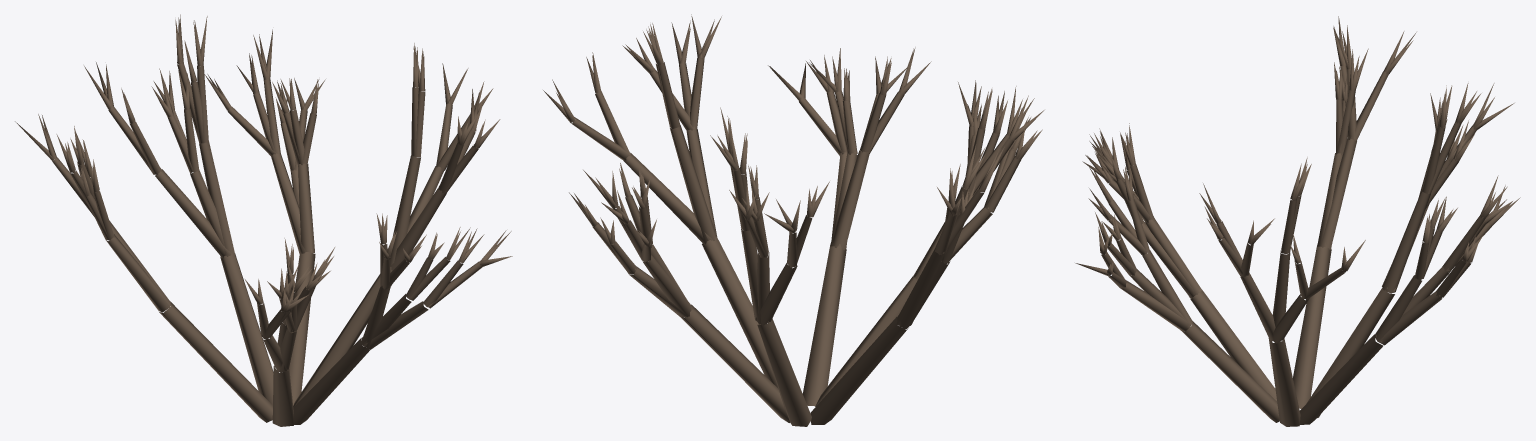
The model's file is bush-bare-a.glb.
The picture shows the model from 3 angles, left to right: view 1: azimuth 30°, elevation 25°; view 2: azimuth 150°, elevation 25°; view 3: azimuth 270°, elevation 25°; orthographic projection. The views are drawn at different scales.
Parts seen in each view (by area): view 1: bush-bare-a; view 2: bush-bare-a; view 3: bush-bare-a.
Boxes of the visible parts, box(x1,y1,x2,y2) form: bush-bare-a: box(15, 14, 512, 426); bush-bare-a: box(543, 14, 1044, 426); bush-bare-a: box(1075, 16, 1520, 426).
Bounding box in the file's own units: 0.9006 × 0.7049 × 0.8602.
